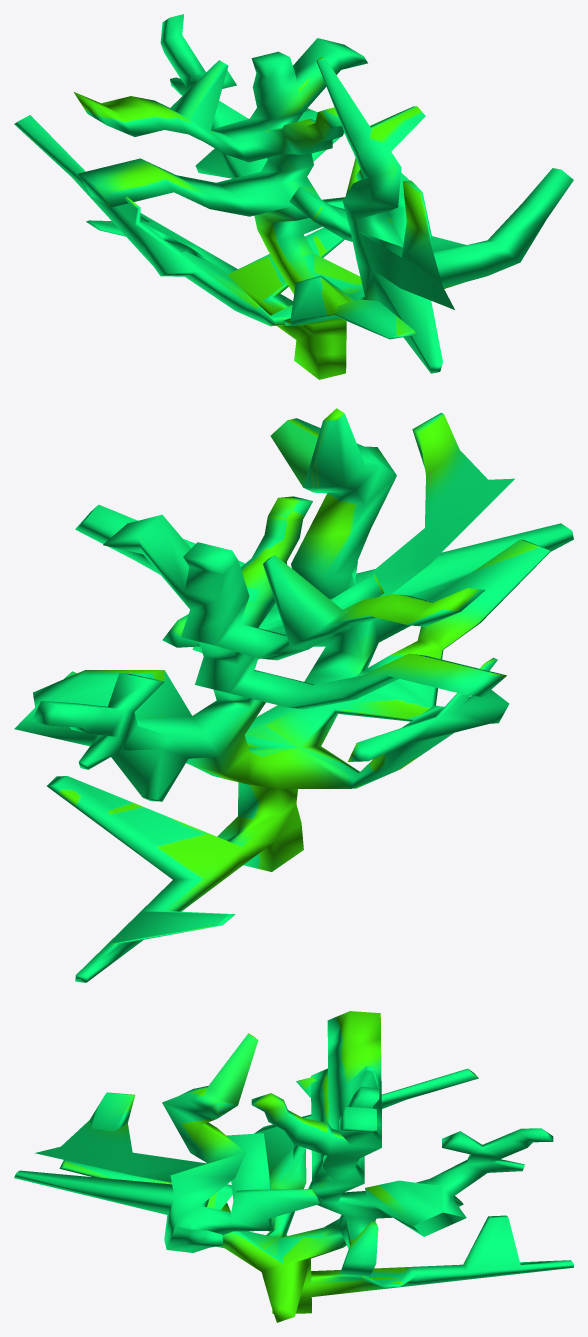
File: plante6.fbx
3 views of the same model, one above another, from view 1: azimuth 30°, elevation 25°; view 2: azimuth 150°, elevation 25°; view 3: azimuth 270°, elevation 25° (orthographic). The views are drawn at different scales.
Parts seen in each view (by area): view 1: Cube.001; view 2: Cube.001; view 3: Cube.001.
Boxes of the visible parts, box(x1,y1,x2,y2) form: Cube.001: box(14, 14, 573, 379); Cube.001: box(14, 408, 573, 982); Cube.001: box(14, 1011, 573, 1322).
Bounding box in the file's own units: 2577 × 2100 × 4009.
1 material, 1 textured.
